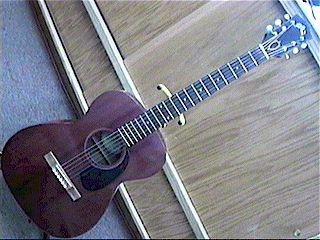guitar: (2, 12, 317, 240)
